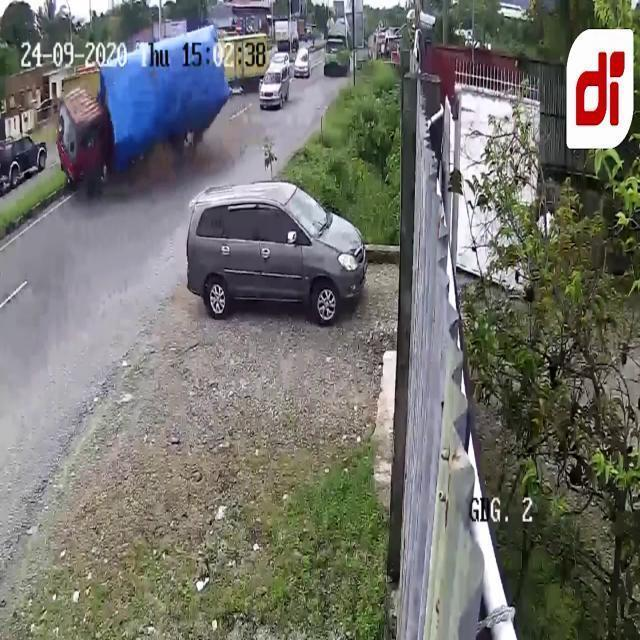accident: (48, 25, 228, 193)
non-accident: (255, 46, 312, 112)
